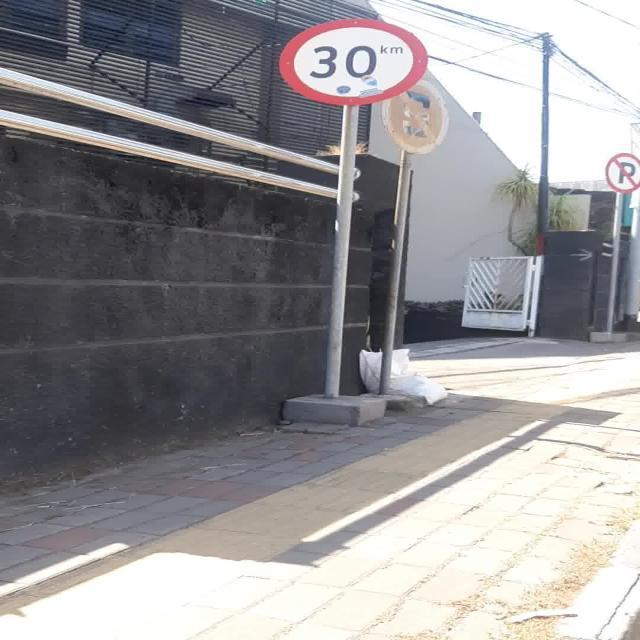Kecepatan Maks. 30 km: (278, 18, 429, 105)
